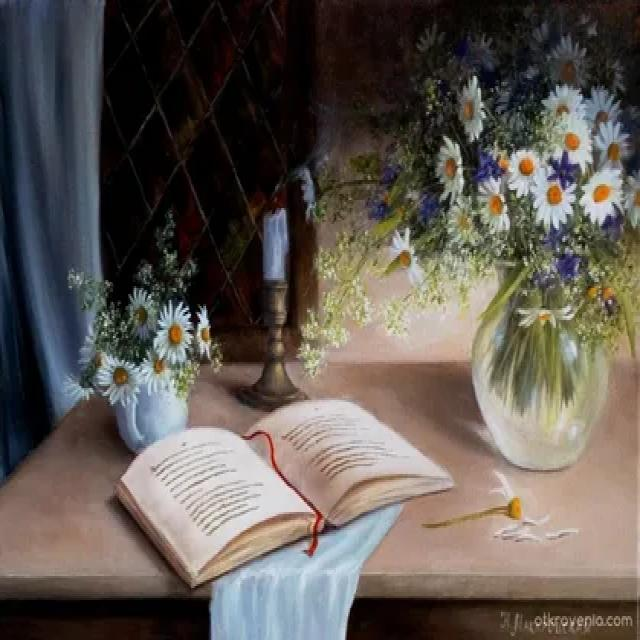book: (111, 389, 467, 569)
